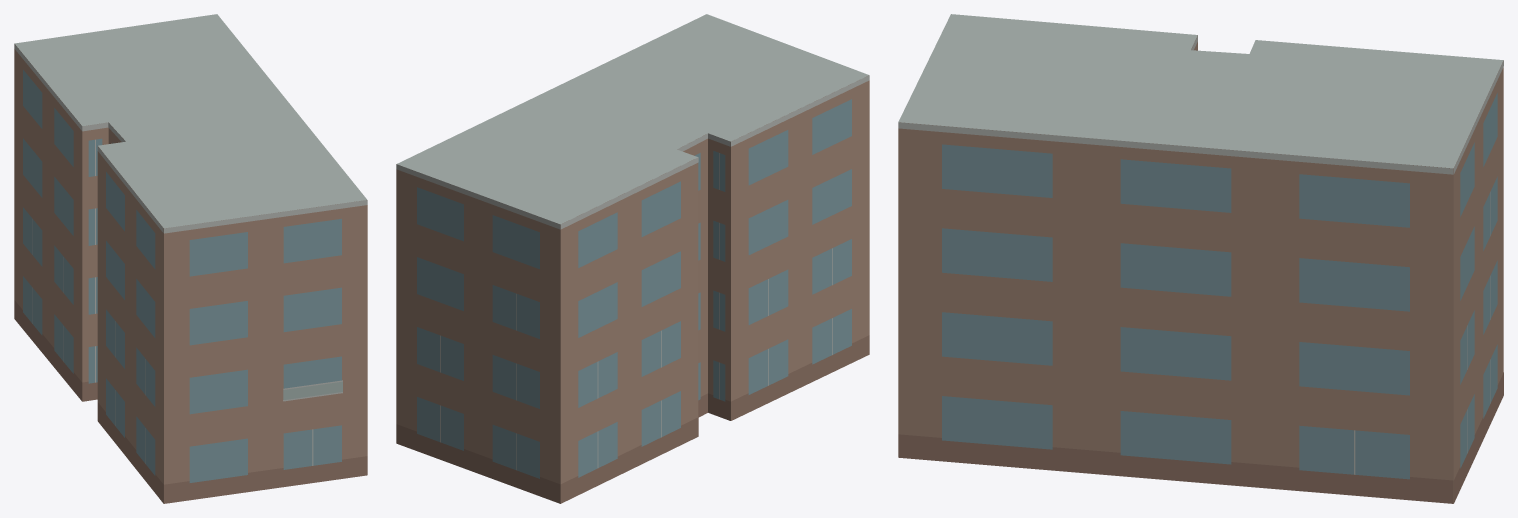
Rendered from survey-upis-32704649.glb.
The picture shows the model from 3 angles, left to right: view 1: azimuth 30°, elevation 25°; view 2: azimuth 150°, elevation 25°; view 3: azimuth 270°, elevation 25°; orthographic projection. The views are drawn at different scales.
Parts seen in each view (by area): view 1: survey-upis-32704649.tmp; view 2: survey-upis-32704649.tmp; view 3: survey-upis-32704649.tmp.
Boxes of the visible parts, <box> form: survey-upis-32704649.tmp: <box>14,14,367,503</box>; survey-upis-32704649.tmp: <box>396,14,869,503</box>; survey-upis-32704649.tmp: <box>898,14,1503,503</box>.
Bounding box in the file's own units: 12.94 × 13.1 × 21.44.
